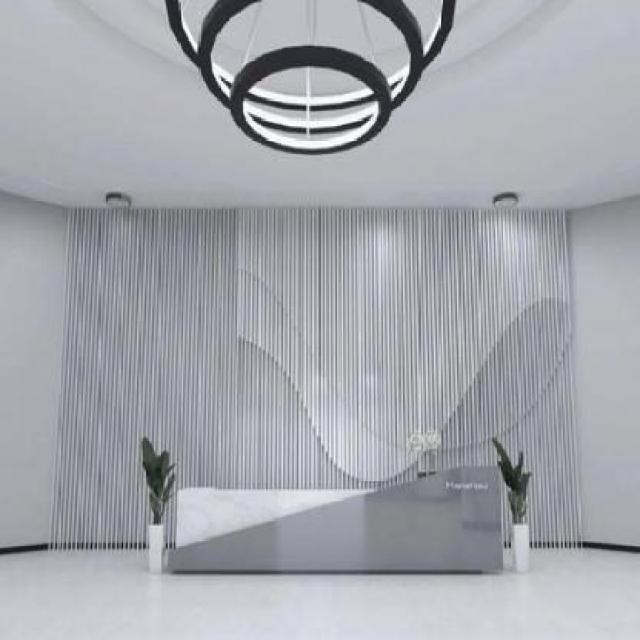frontdesk: (163, 456, 505, 586)
